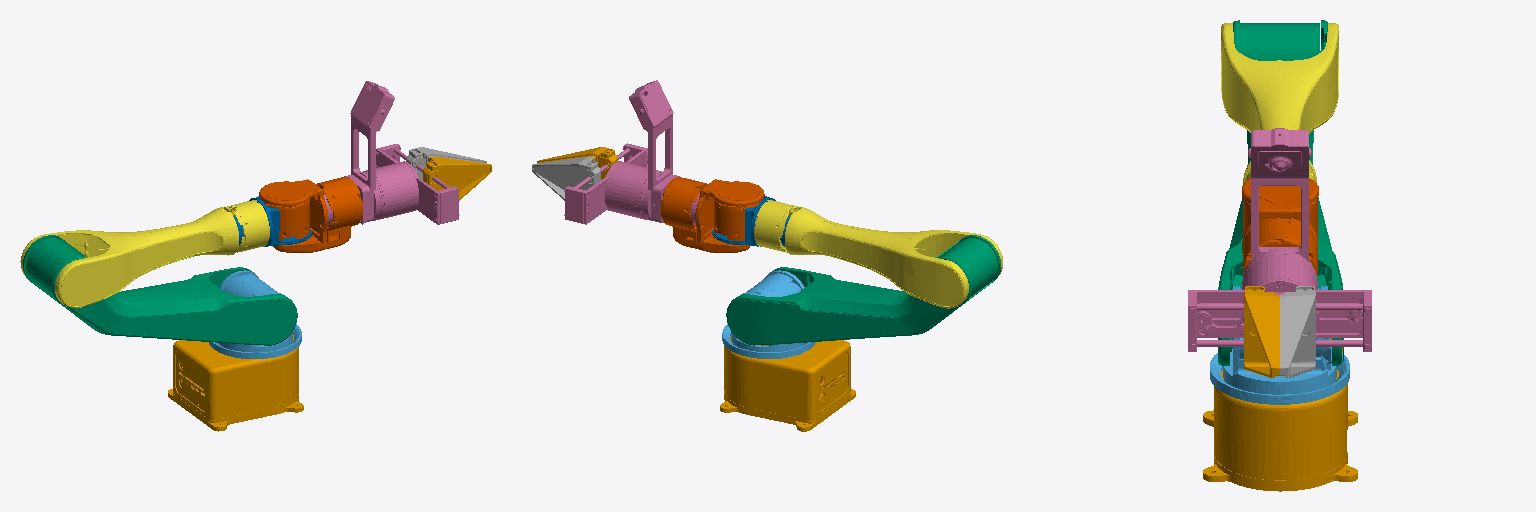
robot.urdf — airbot_play_v3_gripper:
<?xml version="1.0" ?>
<!-- =================================================================================== -->
<!-- |    This document was autogenerated by xacro from robot.xacro                    | -->
<!-- |    EDITING THIS FILE BY HAND IS NOT RECOMMENDED                                 | -->
<!-- =================================================================================== -->
<robot name="airbot_play_v3_gripper">
  <link name="base_link">
    <inertial>
      <origin xyz="-0.010729 -0.00017015 0.041712"/>
      <mass value="0.77705"/>
      <inertia ixx="0.0008454" ixy="-7.5E-06" ixz="2.06E-05" iyy="0.0011821" iyz="-6.4E-06" izz="0.0012443"/>
    </inertial>
    <visual>
      <geometry>
        <mesh filename="package://airbot_play_description/meshes/arm_base.obj"/>
      </geometry>
    </visual>
    <collision>
      <geometry>
        <mesh filename="package://airbot_play_description/meshes/arm_base.obj"/>
      </geometry>
    </collision>
  </link>
  <link name="link1">
    <inertial>
      <origin xyz="7.9126E-05 -0.002527 -0.0041359"/>
      <mass value="0.54639"/>
      <inertia ixx="0.0003462" ixy="0" ixz="-1.4E-06" iyy="0.0002863" iyz="-1.1E-06" izz="0.0003255"/>
    </inertial>
    <visual>
      <geometry>
        <mesh filename="package://airbot_play_description/meshes/link1.obj"/>
      </geometry>
    </visual>
    <collision>
      <geometry>
        <mesh filename="package://airbot_play_description/meshes/link1.obj"/>
      </geometry>
    </collision>
  </link>
  <joint name="joint1" type="revolute">
    <origin xyz="0 0 0.1172"/>
    <parent link="base_link"/>
    <child link="link1"/>
    <axis xyz="0 0 1"/>
    <limit effort="18" lower="-3.14" upper="2.09" velocity="3.14"/>
  </joint>
  <link name="link2">
    <inertial>
      <origin xyz="0.22493 0.0047721 0.008023"/>
      <mass value="0.64621"/>
      <inertia ixx="0.0004901" ixy="0.0005229" ixz="-0.0002434" iyy="0.0050391" iyz="-2.95E-05" izz="0.0051052"/>
    </inertial>
    <visual>
      <geometry>
        <mesh filename="package://airbot_play_description/meshes/link2.obj"/>
      </geometry>
    </visual>
    <collision>
      <geometry>
        <mesh filename="package://airbot_play_description/meshes/link2.obj"/>
      </geometry>
    </collision>
  </link>
  <joint name="joint2" type="revolute">
    <origin rpy="1.5708 -2.7549 0"/>
    <parent link="link1"/>
    <child link="link2"/>
    <axis xyz="0 0 1"/>
    <limit effort="18" lower="-2.96" upper="0.17" velocity="3.14"/>
  </joint>
  <link name="link3">
    <inertial>
      <origin xyz="0.16813 -5.5576E-05 0.0031184"/>
      <mass value="0.26829"/>
      <inertia ixx="0.000245" ixy="-4E-07" ixz="-0.0001263" iyy="0.0031527" iyz="-1E-07" izz="0.0030895"/>
    </inertial>
    <visual>
      <geometry>
        <mesh filename="package://airbot_play_description/meshes/link3.obj"/>
      </geometry>
    </visual>
    <collision>
      <geometry>
        <mesh filename="package://airbot_play_description/meshes/link3.obj"/>
      </geometry>
    </collision>
  </link>
  <joint name="joint3" type="revolute">
    <origin rpy="0 0 -2.7549" xyz="0.27009 0 0"/>
    <parent link="link2"/>
    <child link="link3"/>
    <axis xyz="0 0 1"/>
    <limit effort="18" lower="-0.087" upper="3.14" velocity="3.14"/>
  </joint>
  <link name="link4">
    <inertial>
      <origin xyz="5.2436E-06 0.00040412 -0.03228"/>
      <mass value="0.34876"/>
      <inertia ixx="0.0004235" ixy="0" ixz="4.7E-06" iyy="0.000412" iyz="-1E-07" izz="0.0001269"/>
    </inertial>
    <visual>
      <geometry>
        <mesh filename="package://airbot_play_description/meshes/link4.obj"/>
      </geometry>
    </visual>
    <collision>
      <geometry>
        <mesh filename="package://airbot_play_description/meshes/link4.obj"/>
      </geometry>
    </collision>
  </link>
  <joint name="joint4" type="revolute">
    <origin rpy="3.1416 -1.5708 0" xyz="0.29015 0 0"/>
    <parent link="link3"/>
    <child link="link4"/>
    <axis xyz="0 0 1"/>
    <limit effort="3" lower="-2.96" upper="2.96" velocity="6.28"/>
  </joint>
  <link name="link5">
    <inertial>
      <origin xyz="8.3328E-06 0.026148 0.002525"/>
      <mass value="0.36132"/>
      <inertia ixx="0.0001825" ixy="0" ixz="-3.29E-05" iyy="0.0004677" iyz="0" izz="0.0004286"/>
    </inertial>
    <visual>
      <geometry>
        <mesh filename="package://airbot_play_description/meshes/link5.obj"/>
      </geometry>
    </visual>
    <collision>
      <geometry>
        <mesh filename="package://airbot_play_description/meshes/link5.obj"/>
      </geometry>
    </collision>
  </link>
  <joint name="joint5" type="revolute">
    <origin rpy="1.5708 0 0"/>
    <parent link="link4"/>
    <child link="link5"/>
    <axis xyz="0 0 1"/>
    <limit effort="3" lower="-1.74" upper="1.74" velocity="6.28"/>
  </joint>
  <link name="link6">
    <inertial>
      <origin xyz="-0.0047053 7.3857E-05 -0.12293"/>
      <mass value="0.53855"/>
      <inertia ixx="5E-05" ixy="0" ixz="0" iyy="5E-05" iyz="0" izz="3.85E-05"/>
    </inertial>
    <visual>
      <geometry>
        <mesh filename="package://airbot_play_description/meshes/link6.obj"/>
      </geometry>
    </visual>
    <collision>
      <geometry>
        <mesh filename="package://airbot_play_description/meshes/link6.obj"/>
      </geometry>
    </collision>
  </link>
  <joint name="joint6" type="revolute">
    <origin rpy="-1.5708 1.5708 0" xyz="0 0.23645 0"/>
    <parent link="link5"/>
    <child link="link6"/>
    <axis xyz="0 0 1"/>
    <limit effort="3" lower="-3.14" upper="3.14" velocity="6.28"/>
  </joint>
  <link name="left">
    <inertial>
      <origin xyz="-0.049039 -0.0096764 0.00038868"/>
      <mass value="0.061803"/>
      <inertia ixx="1.8946E-05" ixy="-1.3168E-06" ixz="-6.5528E-07" iyy="2.7277E-05" iyz="-2.0801E-07" izz="1.1981E-05"/>
    </inertial>
    <visual>
      <geometry>
        <mesh filename="package://airbot_play_description/meshes/gripper.obj" scale="1 -1 1"/>
      </geometry>
    </visual>
    <collision>
      <geometry>
        <mesh filename="package://airbot_play_description/meshes/gripper.obj" scale="1 -1 1"/>
      </geometry>
    </collision>
  </link>
  <joint name="gripper_joint" type="prismatic">
    <origin rpy="0 -1.5708 0"/>
    <parent link="link6"/>
    <child link="left"/>
    <axis xyz="0 1 0"/>
    <limit effort="0" lower="0" upper="0.04" velocity="0"/>
  </joint>
  <link name="right">
    <inertial>
      <origin xyz="-0.048742 0.0096369 0.00044322"/>
      <mass value="0.0626"/>
      <inertia ixx="1.915E-05" ixy="1.343E-06" ixz="-6.8259E-07" iyy="2.7722E-05" iyz="2.0748E-07" izz="1.2248E-05"/>
    </inertial>
    <visual>
      <geometry>
        <mesh filename="package://airbot_play_description/meshes/gripper.obj"/>
      </geometry>
    </visual>
    <collision>
      <geometry>
        <mesh filename="package://airbot_play_description/meshes/gripper.obj"/>
      </geometry>
    </collision>
  </link>
  <joint name="endright" type="prismatic">
    <origin rpy="0 -1.5708 0"/>
    <parent link="link6"/>
    <child link="right"/>
    <axis xyz="0 -1 0"/>
    <limit effort="0" lower="0" upper="0.04" velocity="0"/>
    <mimic joint="gripper_joint" multiplier="1" offset="0"/>
  </joint>
  <link name="custom_end_link">
    <inertial>
      <mass value="1E-15"/>
      <inertia ixx="1E-11" ixy="1E-15" ixz="1E-15" iyy="1E-11" iyz="1E-15" izz="1E-11"/>
    </inertial>
  </link>
  <joint name="joint_custom_end" type="fixed">
    <origin rpy="0 -1.5708 0" xyz="0 0 0.02"/>
    <parent link="link6"/>
    <child link="custom_end_link"/>
  </joint>
  <link name="camera_link"/>
  <joint name="camera_joint" type="fixed">
    <origin rpy="0 -1.046 0" xyz="-0.105 0 -0.111"/>
    <parent link="link6"/>
    <child link="camera_link"/>
  </joint>
</robot>

--- Render facts (derived) ---
The picture shows the robot from 3 angles, left to right: view 1: azimuth 30°, elevation 25°; view 2: azimuth 150°, elevation 25°; view 3: azimuth 270°, elevation 25°; orthographic projection.
Robot: airbot_play_v3_gripper — 11 links, 10 joints (6 revolute, 2 prismatic, 2 fixed); root link base_link; default pose: all joints at 0.
Links seen in each view (by area): view 1: link2, link3, base_link, link6, link5, link1, right, link4, left; view 2: link2, link3, base_link, link6, link5, link1, left, link4, right; view 3: link6, base_link, link3, link2, link1, link5, left, right.
Link boxes in pixels (bbox=[...]): link2: bbox=[23, 235, 297, 345]; link3: bbox=[20, 200, 269, 308]; base_link: bbox=[168, 335, 303, 431]; link6: bbox=[324, 81, 459, 224]; link5: bbox=[259, 177, 362, 252]; link1: bbox=[209, 270, 301, 358]; right: bbox=[423, 157, 491, 200]; link4: bbox=[233, 196, 311, 246]; left: bbox=[406, 147, 486, 179]; link2: bbox=[726, 235, 1000, 345]; link3: bbox=[754, 200, 1002, 308]; base_link: bbox=[720, 336, 855, 431]; link6: bbox=[564, 80, 699, 224]; link5: bbox=[661, 177, 764, 252]; link1: bbox=[722, 270, 815, 358]; left: bbox=[532, 156, 600, 200]; link4: bbox=[712, 196, 789, 246]; right: bbox=[537, 147, 617, 179]; link6: bbox=[1188, 128, 1371, 351]; base_link: bbox=[1203, 338, 1357, 491]; link3: bbox=[1221, 23, 1338, 183]; link2: bbox=[1218, 20, 1343, 365]; link1: bbox=[1210, 286, 1349, 404]; link5: bbox=[1242, 178, 1318, 275]; left: bbox=[1280, 286, 1315, 377]; right: bbox=[1244, 286, 1279, 377].
Size in the robot's own frame: 0.5822 by 0.138 by 0.3494 metres.
Meshes: 8 distinct files referenced, 9 mesh visuals loaded (8 OBJ).